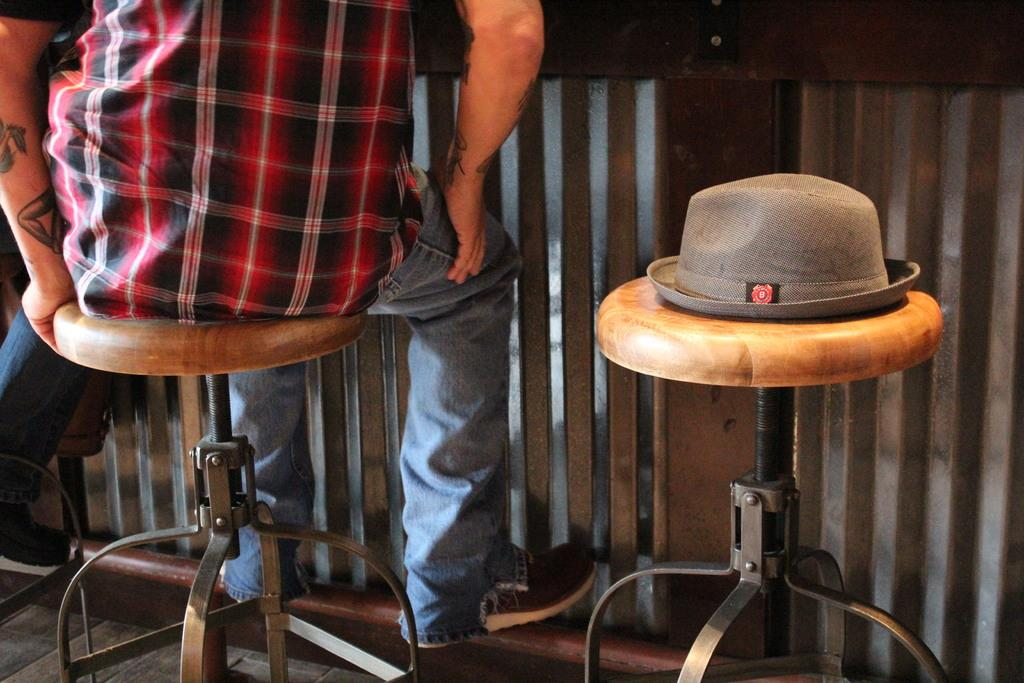Hat: (642, 171, 922, 322)
